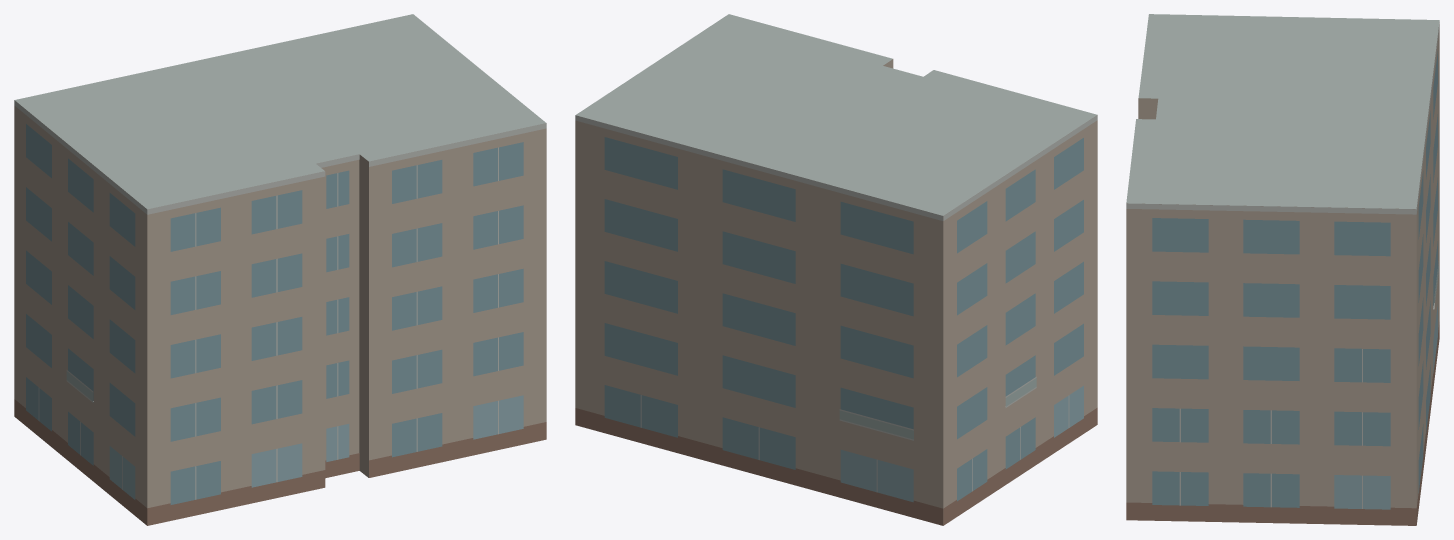
File: survey-upis-32978445.glb
3 renders of one model, left to right at view 1: azimuth 30°, elevation 25°; view 2: azimuth 150°, elevation 25°; view 3: azimuth 270°, elevation 25°, orthographic. The views are drawn at different scales.
Parts seen in each view (by area): view 1: survey-upis-32978445.tmp; view 2: survey-upis-32978445.tmp; view 3: survey-upis-32978445.tmp.
Boxes of the visible parts, x1,y1,x2,y2 form: survey-upis-32978445.tmp: (14, 14, 546, 525); survey-upis-32978445.tmp: (575, 14, 1097, 525); survey-upis-32978445.tmp: (1126, 14, 1439, 525).
Size of the model in its own units: 18.84 by 14.25 by 12.79.
